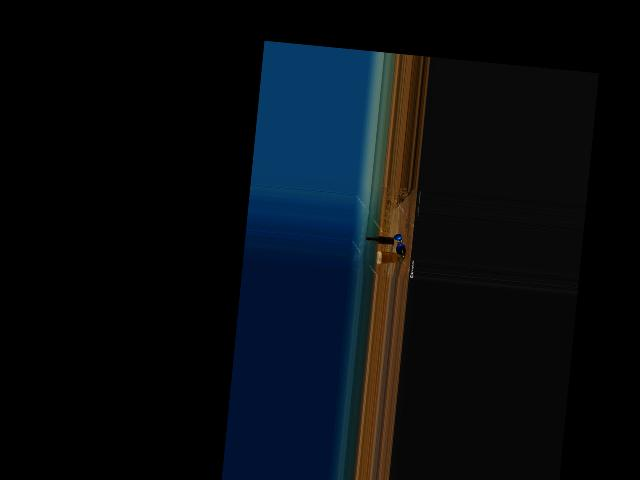beer: (365, 234, 394, 244)
